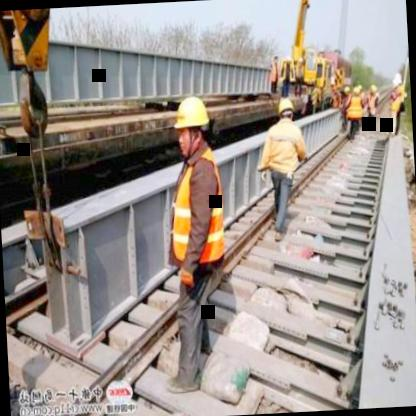helmet: (168, 91, 214, 161), (273, 92, 301, 124)
